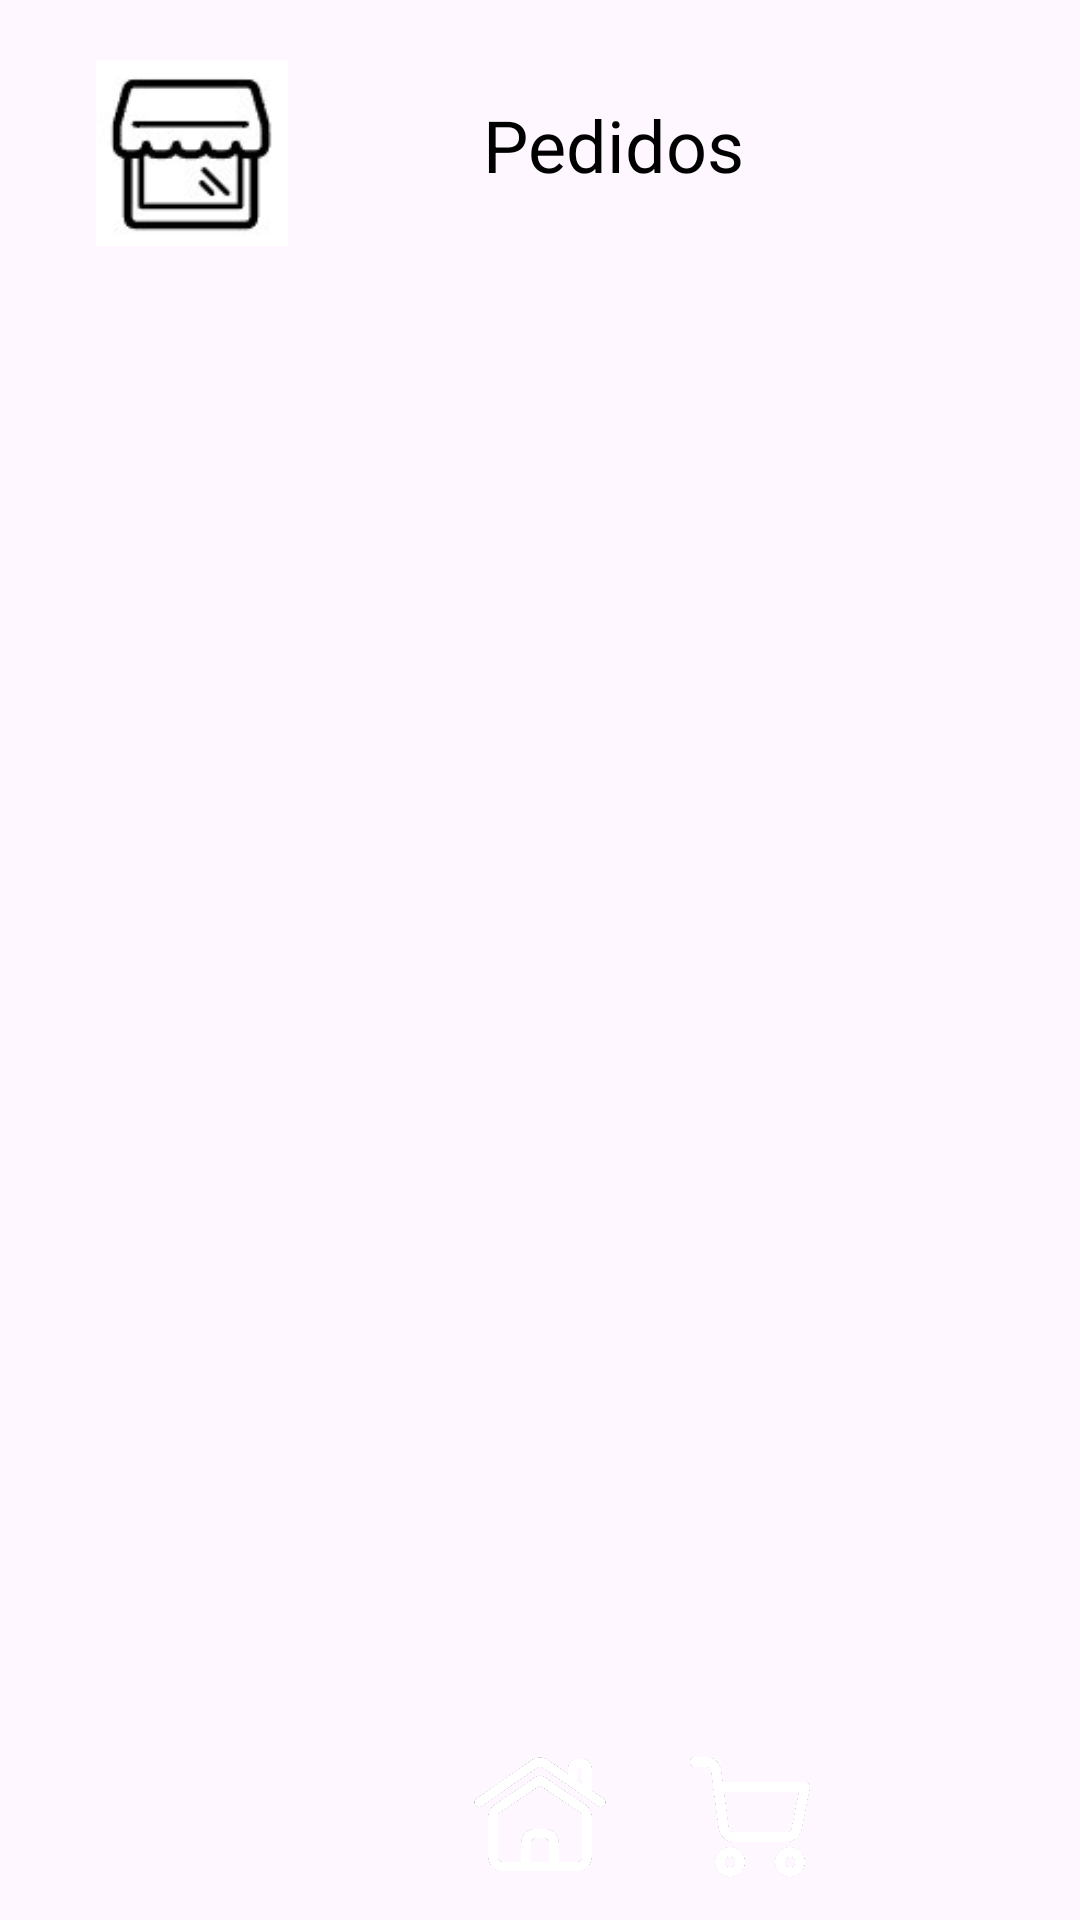

Named icons in this screenshot (1080*1920) and their centers, (x=x, y=y):
carrito: (x=750, y=1812)
home: (x=540, y=1811)
